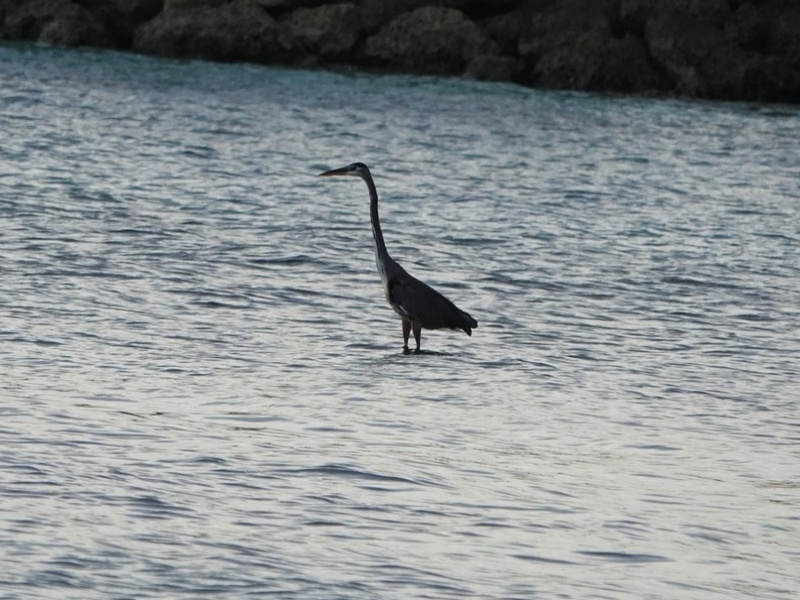heron: (317, 163, 479, 352)
